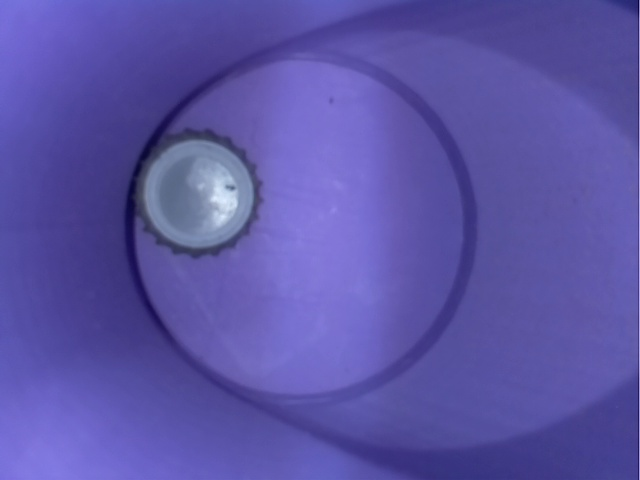capsule: (120, 125, 277, 263)
